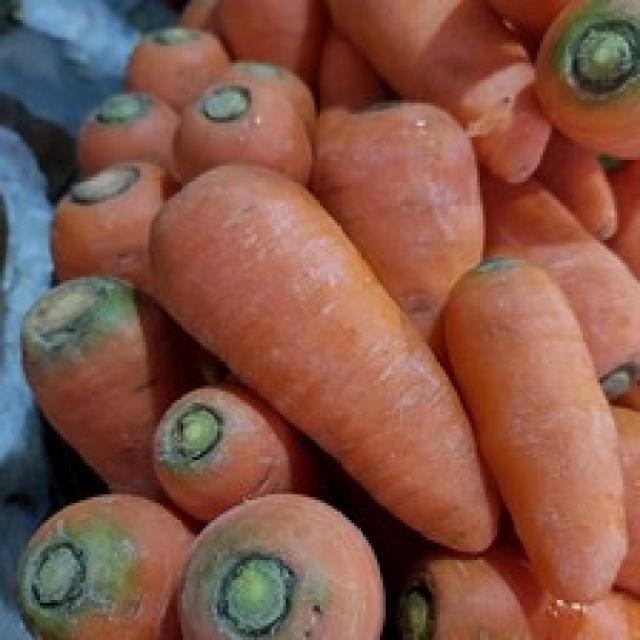Fresh_Carrot: (174, 170, 434, 394), (446, 307, 616, 573)
